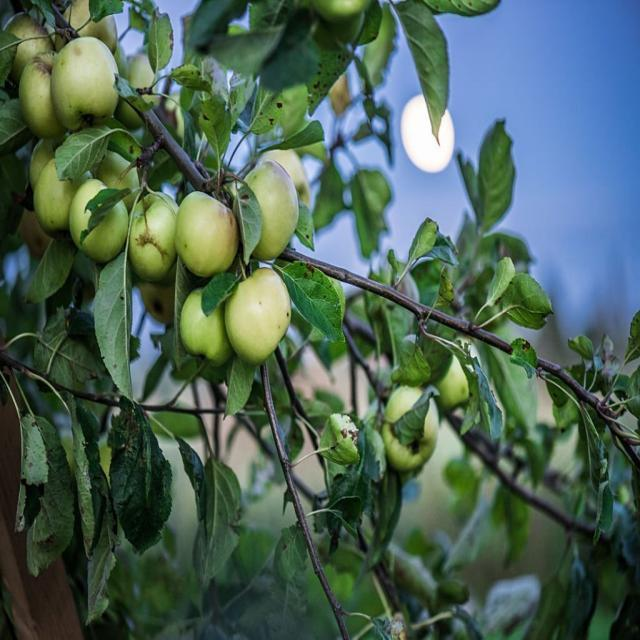Green Apple: (240, 164, 301, 257), (58, 37, 120, 127), (56, 42, 117, 123), (234, 272, 290, 358), (180, 191, 236, 276), (75, 178, 130, 263), (23, 44, 74, 133), (383, 385, 438, 467), (180, 285, 231, 362), (134, 197, 181, 275), (39, 166, 90, 236), (65, 1, 122, 59), (261, 144, 311, 209), (5, 15, 55, 77), (119, 50, 163, 117), (96, 146, 141, 209), (444, 344, 484, 412), (144, 266, 182, 322), (33, 141, 68, 189), (316, 1, 371, 21)
